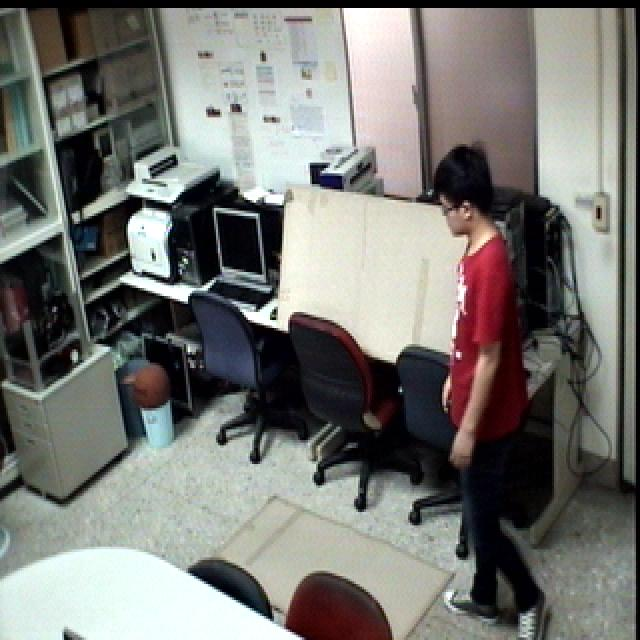stand: (425, 122, 570, 640)
